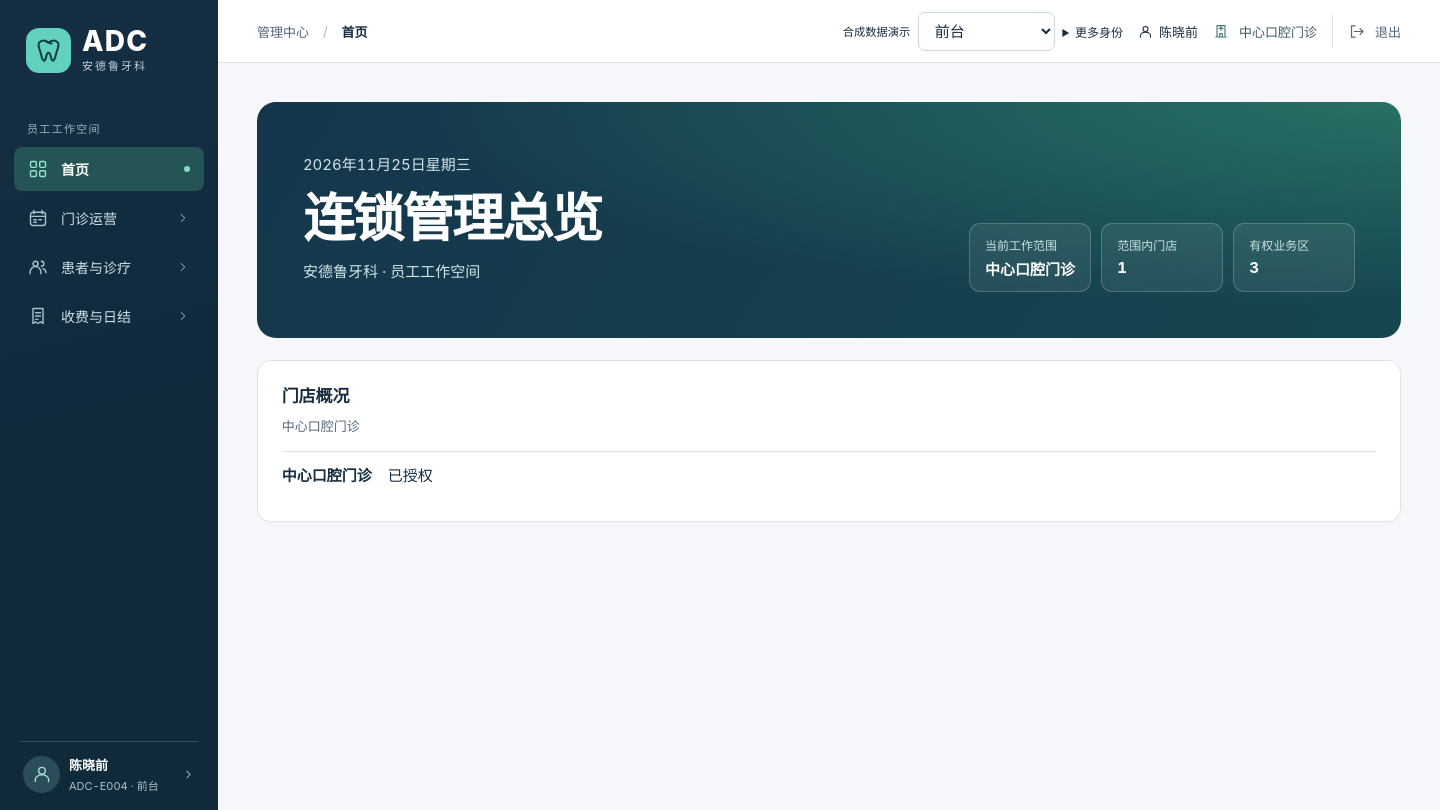
Test: the four standard roles are separated from special accounts and headquarters uses one workspace
This screenshot has width=1440, height=810.
Select "总部管理人员" in the dropdown named "样例身份" at (986, 31), box [918, 12, 1055, 50]
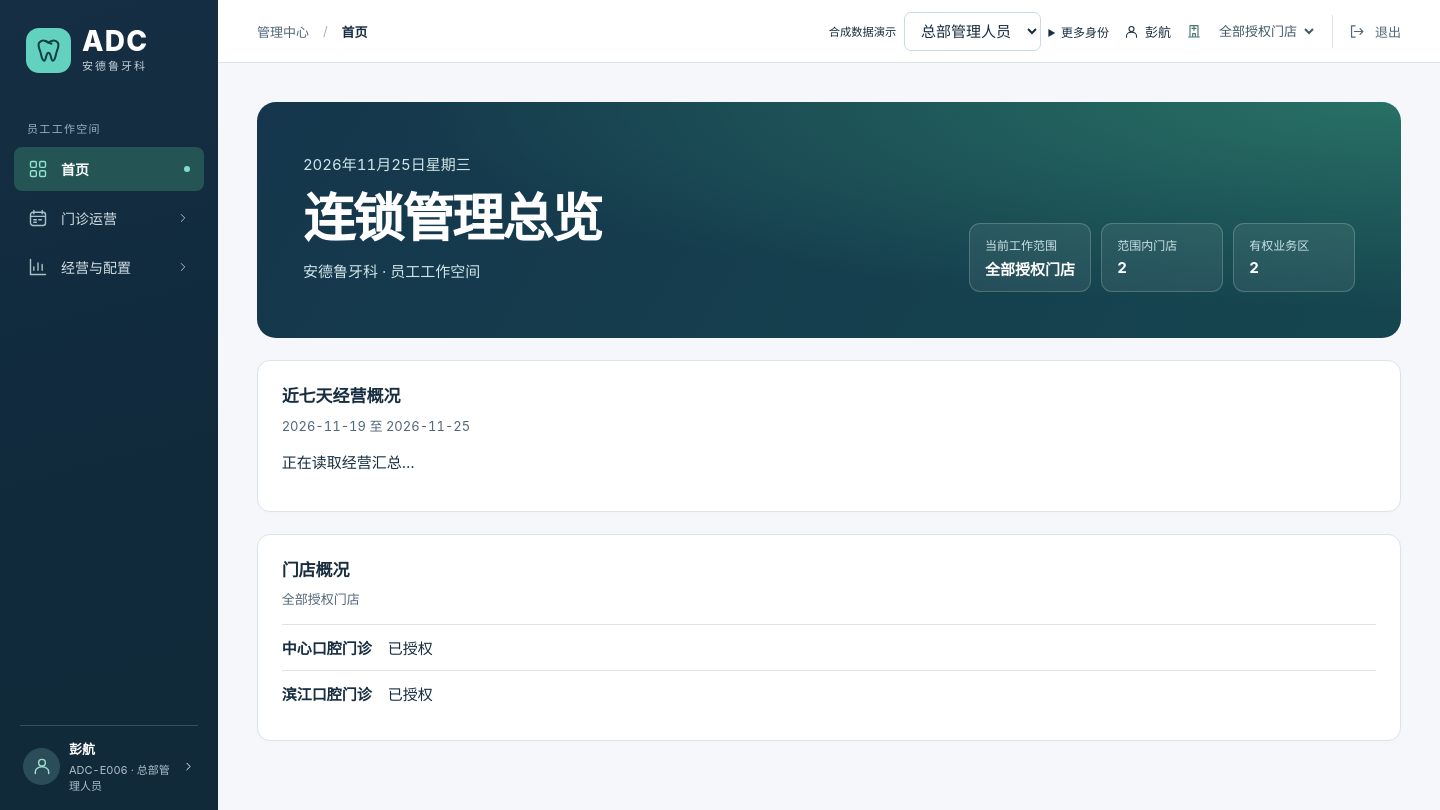
Click the button "经营与配置".
click(109, 267)  # box [14, 245, 204, 289]
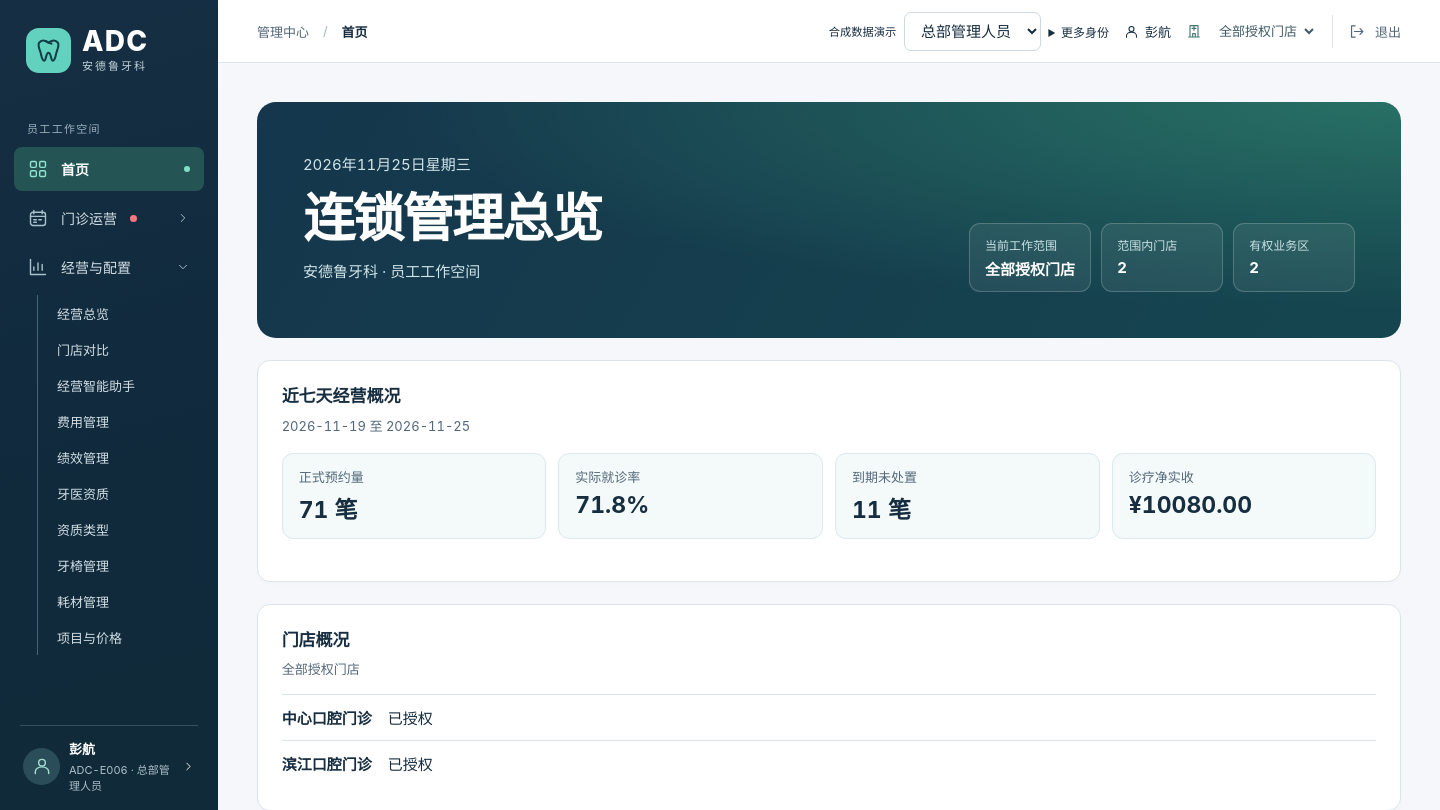
Now the link "经营总览" is shown, box [57, 306, 109, 322]
Now the link "项目与价格" is shown, box [57, 630, 122, 646]
Now the link "绩效管理" is shown, box [57, 450, 109, 466]
Click the heading "更多身份".
click(1085, 32)  # box [1061, 24, 1109, 40]
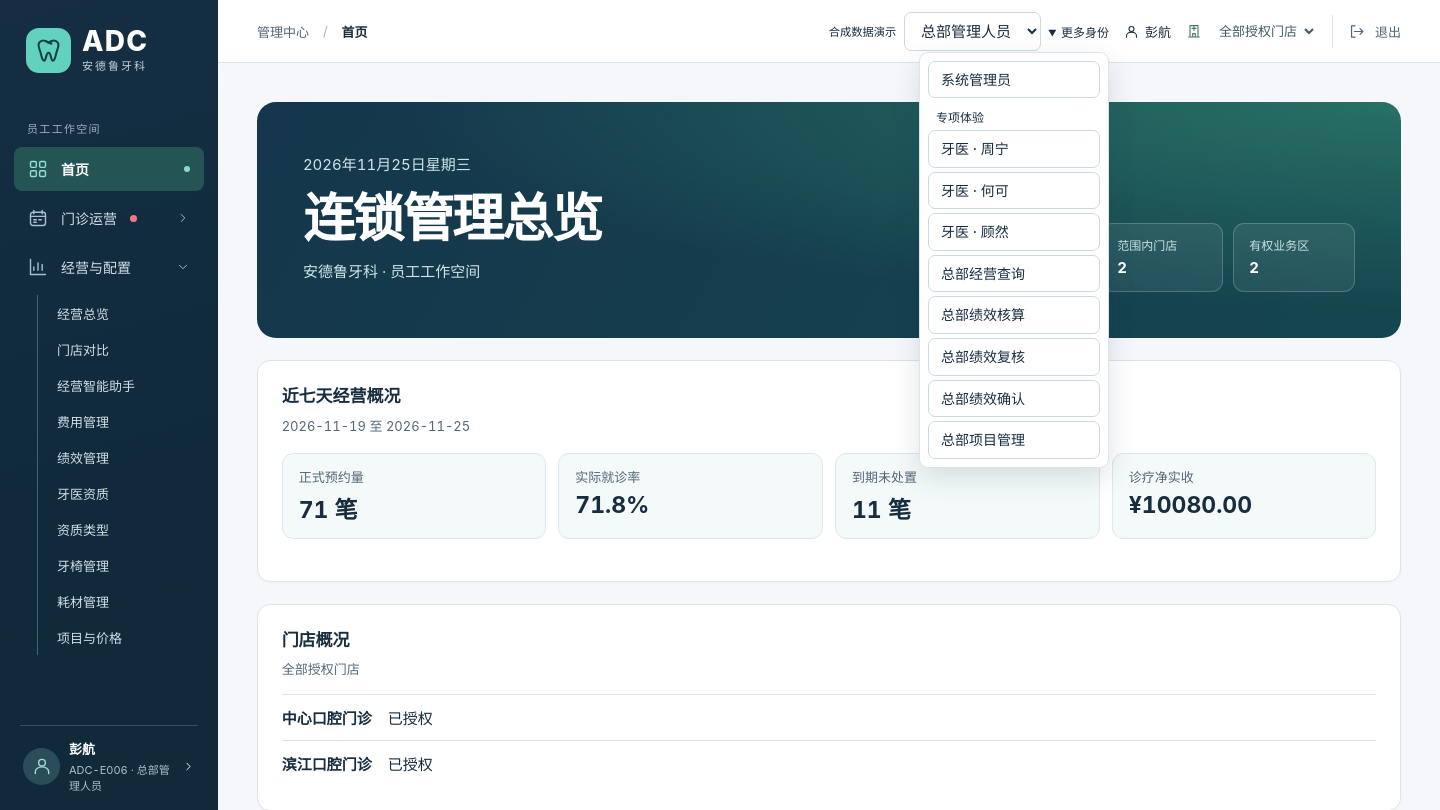
Now the button "系统管理员" is shown, box [928, 60, 1100, 98]
